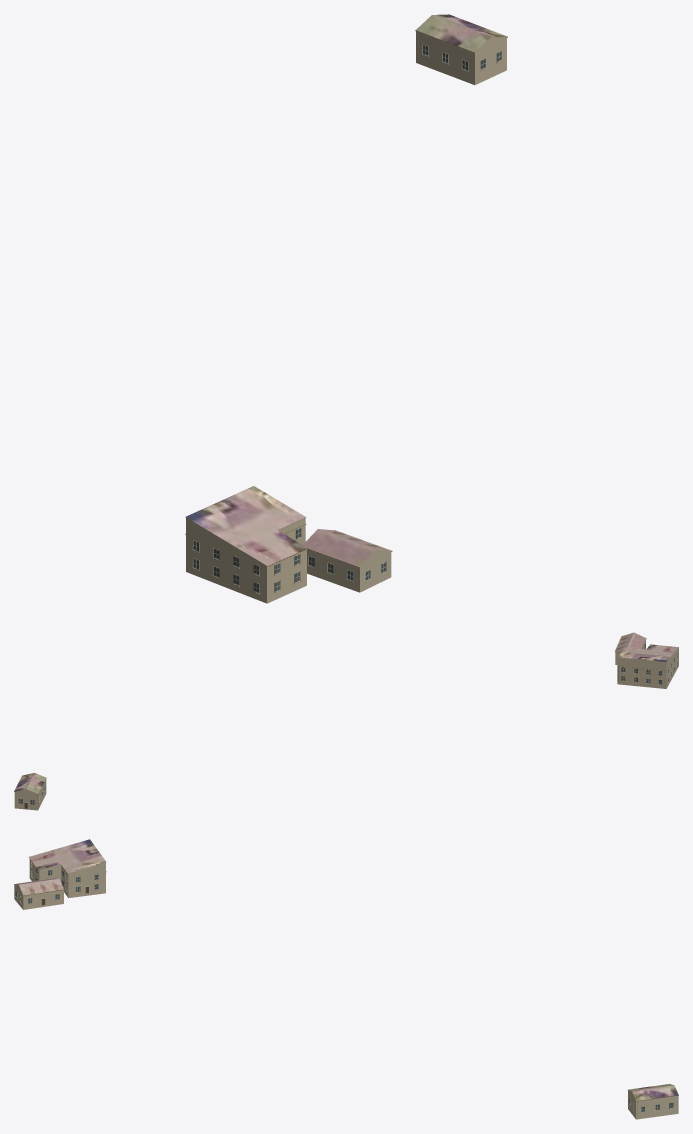
3 views of the same model, one above another, from view 1: azimuth 30°, elevation 25°; view 2: azimuth 150°, elevation 25°; view 3: azimuth 270°, elevation 25° (orthographic). The views are drawn at different scales.
Visible parts, largest first — view 1: -14_1_619854403_11; view 2: -14_1_619854403_11; view 3: -14_1_619854403_11.
Boxes of the visible parts, bbox=[...] form: -14_1_619854403_11: bbox=[185, 14, 507, 603]; -14_1_619854403_11: bbox=[14, 632, 678, 810]; -14_1_619854403_11: bbox=[14, 839, 678, 1119].
Size of the model in its own units: 160 by 19.47 by 202.
Materials: 10 (1 with a texture image).
